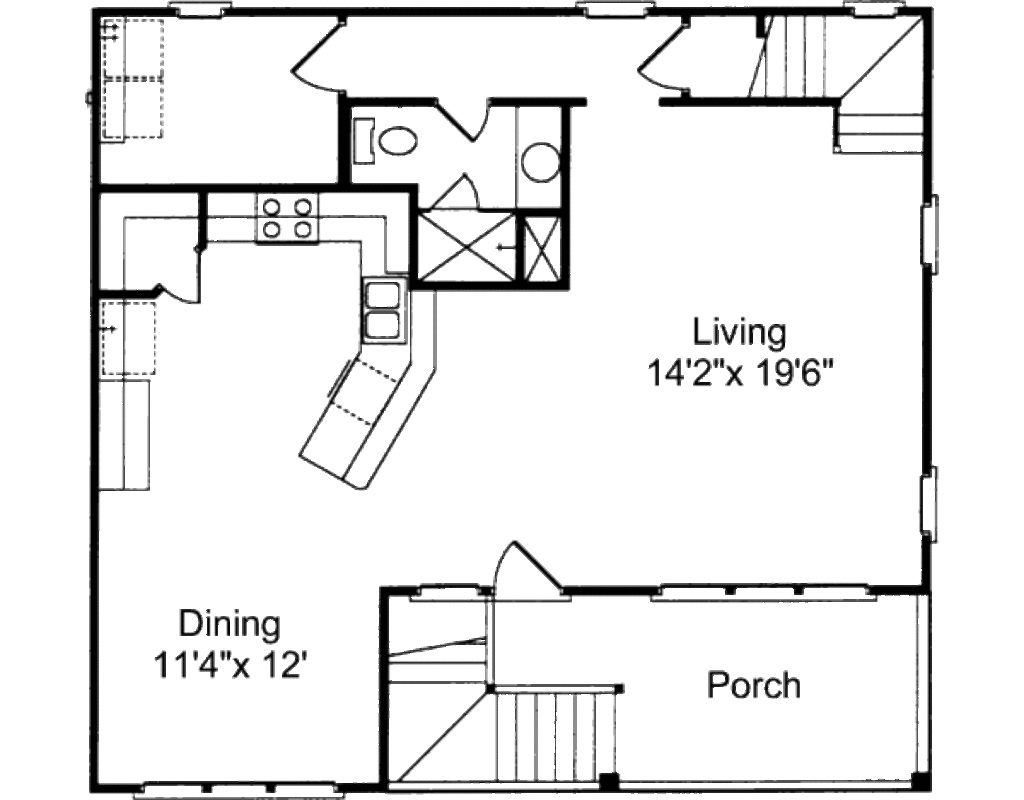coffee_table: (523, 217, 563, 284)
door: (486, 540, 569, 600), (634, 25, 686, 95), (291, 27, 345, 94), (162, 248, 209, 308), (436, 99, 492, 145), (423, 173, 484, 207)
large_sink: (351, 112, 418, 173)
small_sink: (512, 101, 564, 208)
stairs: (384, 592, 620, 790), (728, 9, 923, 164)
twin_sink: (359, 272, 407, 345)
windows: (649, 576, 875, 606), (128, 779, 339, 800), (918, 464, 942, 542), (922, 192, 943, 274)
